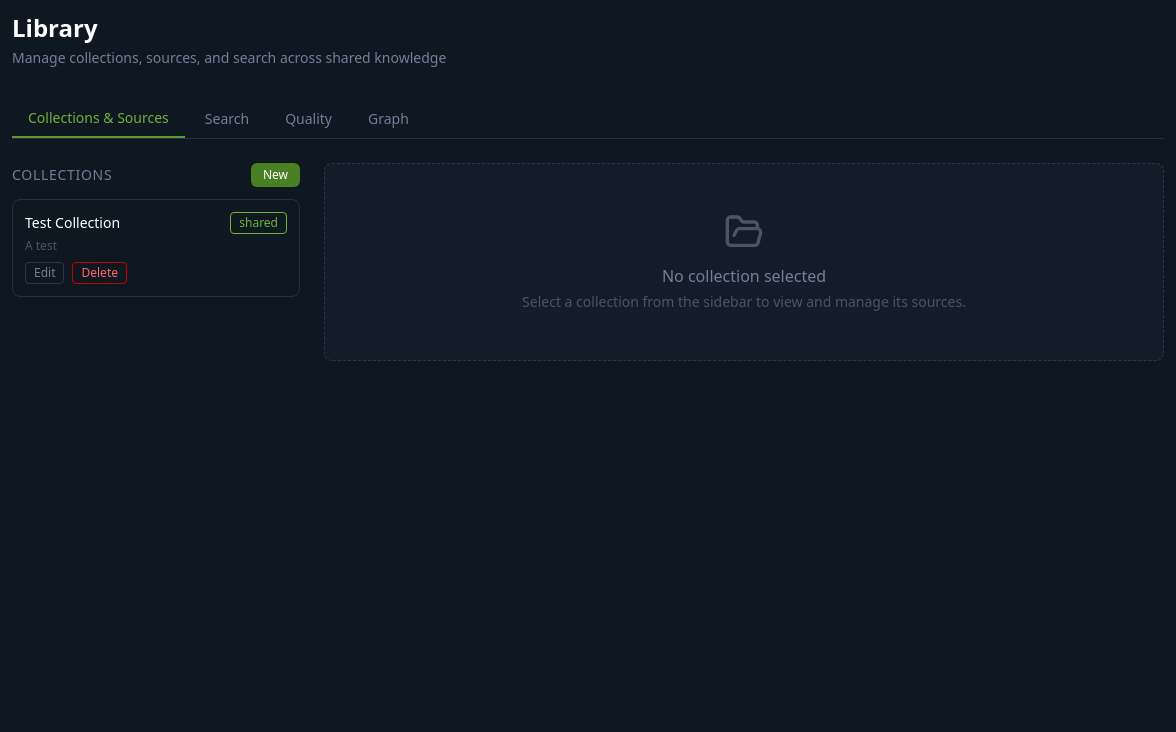
Test case: SharedKnowledgeClient quality badges › renders quality badges on search results
Expected: the heading "Library" is shown, [12,11,98,44]
Click the button "Search": click(227, 119) [189,100,265,138]
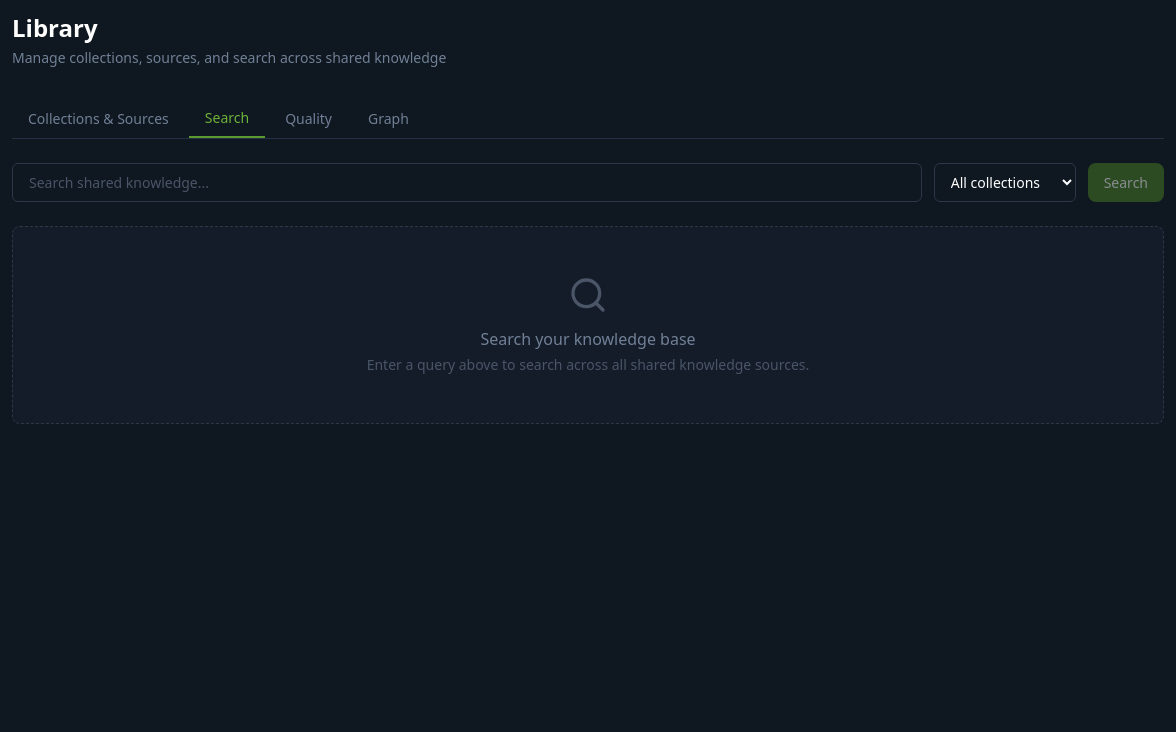
// Type a query and search
In the field with placeholder "Search shared knowledge...": (467, 182) [12,163,922,202], type "test"
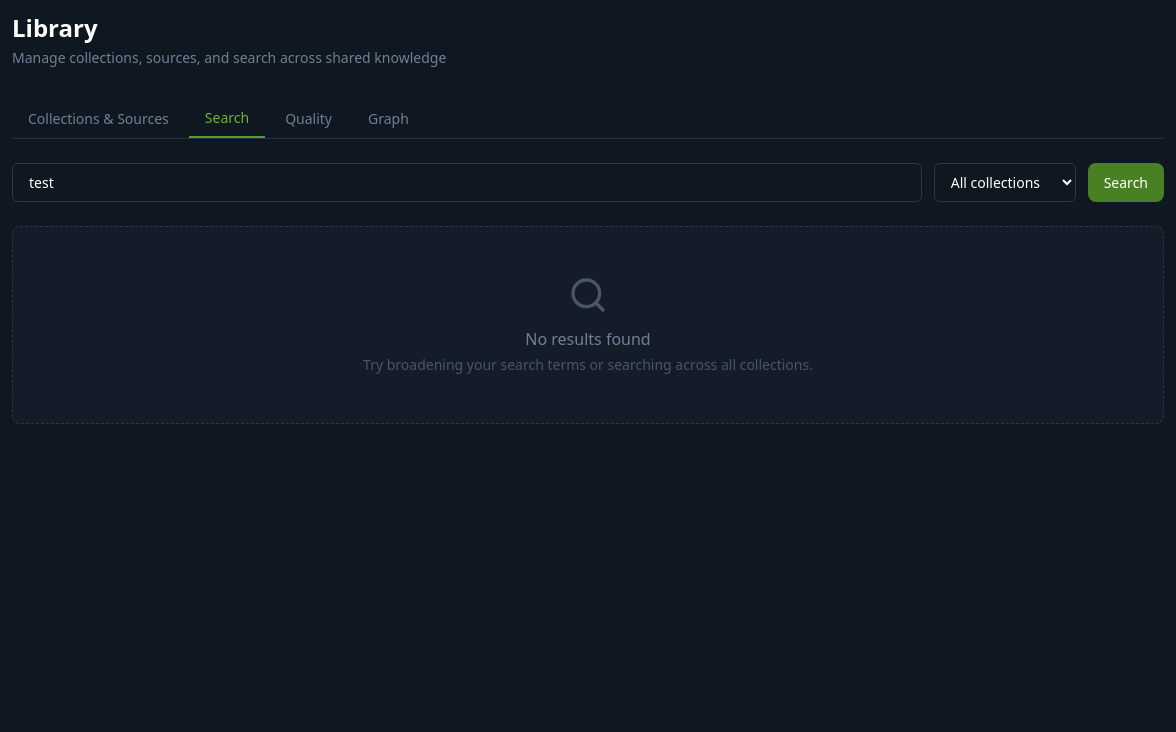
// Click the submit button (not the tab)
Click the 2nd button "Search": click(1126, 182) [1088,163,1164,202]
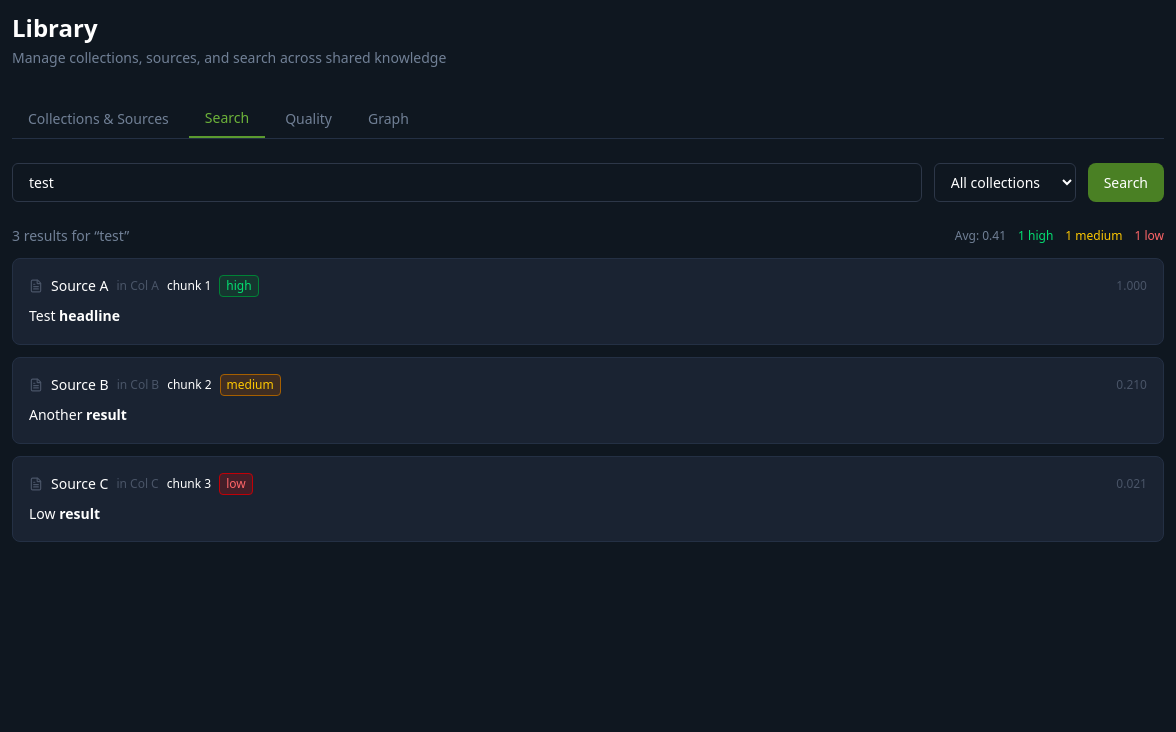
Result: the number of elements with test id "quality-badge" is 3 at [219,275,259,297]; [220,374,281,396]; [219,472,253,494]
Result: the text with test id "quality-badge" reads "high" at [226,277,252,294]
Result: the text with test id "quality-badge" reads "medium" at [227,376,274,393]
